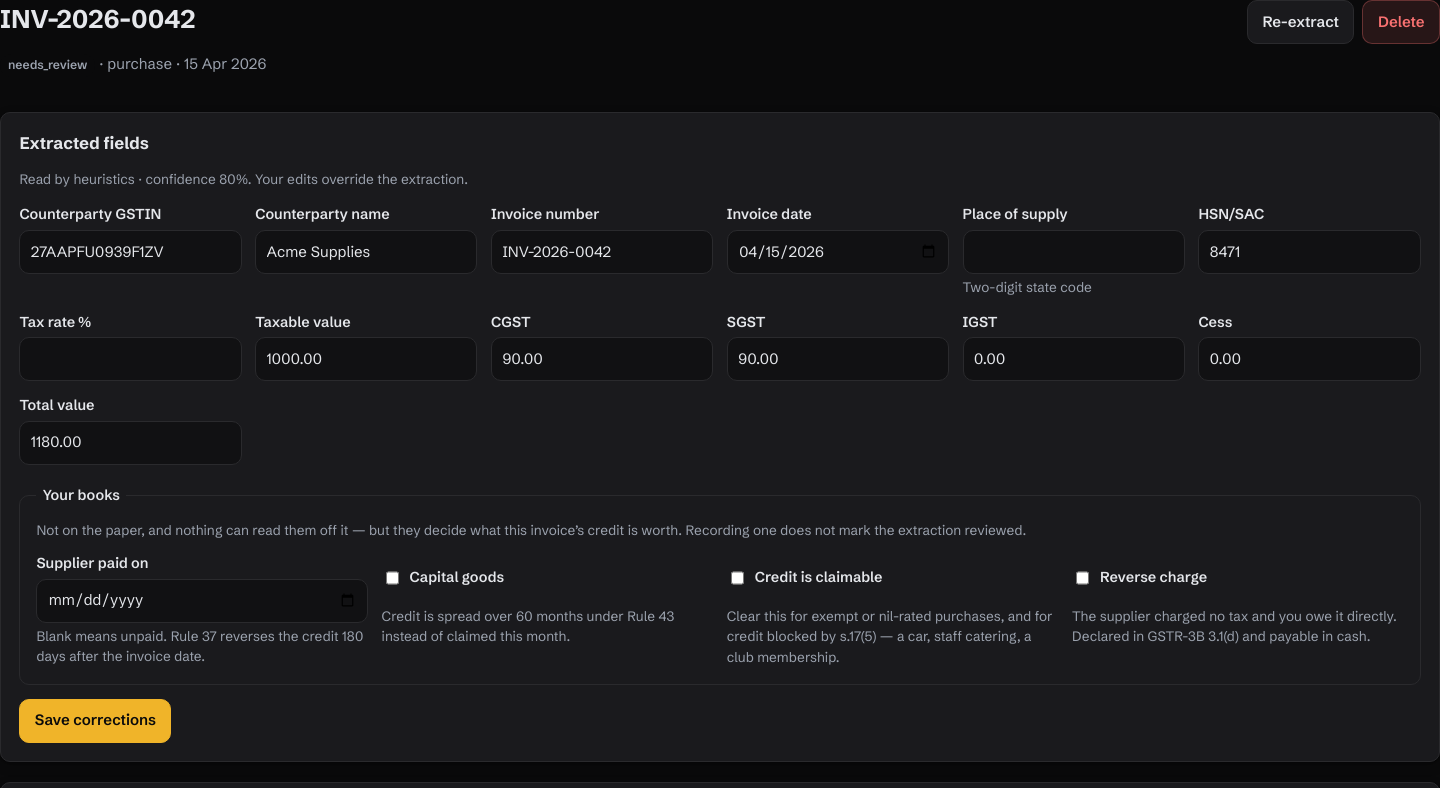
InvoiceDetailPage › blocks the save on a negative amount and says which field
Expected: the field labelled "Counterparty GSTIN" is shown, [19,230,242,274]
Clear the number field labelled "CGST" at (602, 359), box [491,337,713,381]
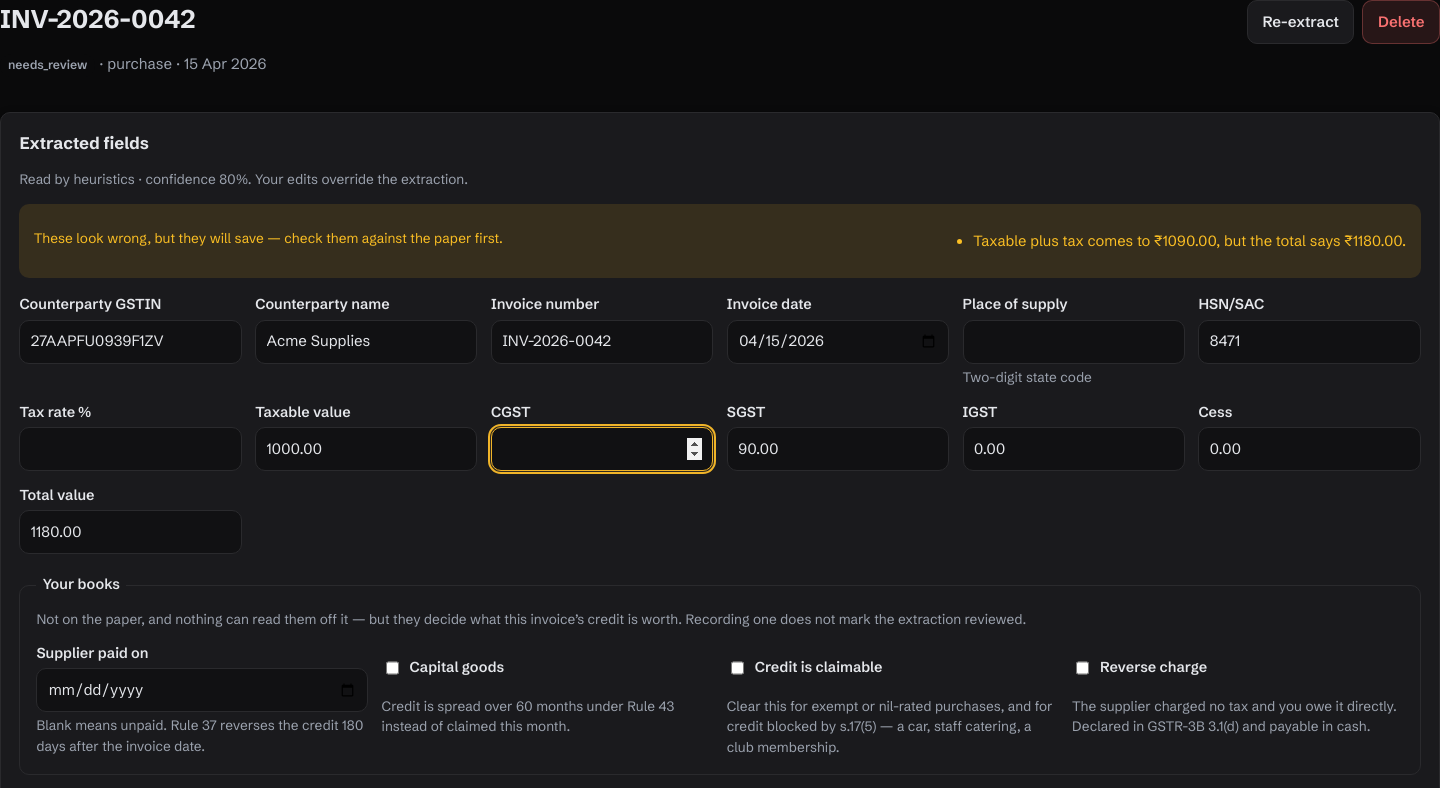
Type "-5" into the number field labelled "CGST".
click(602, 449); type("-5")  # box [491,427,713,471]
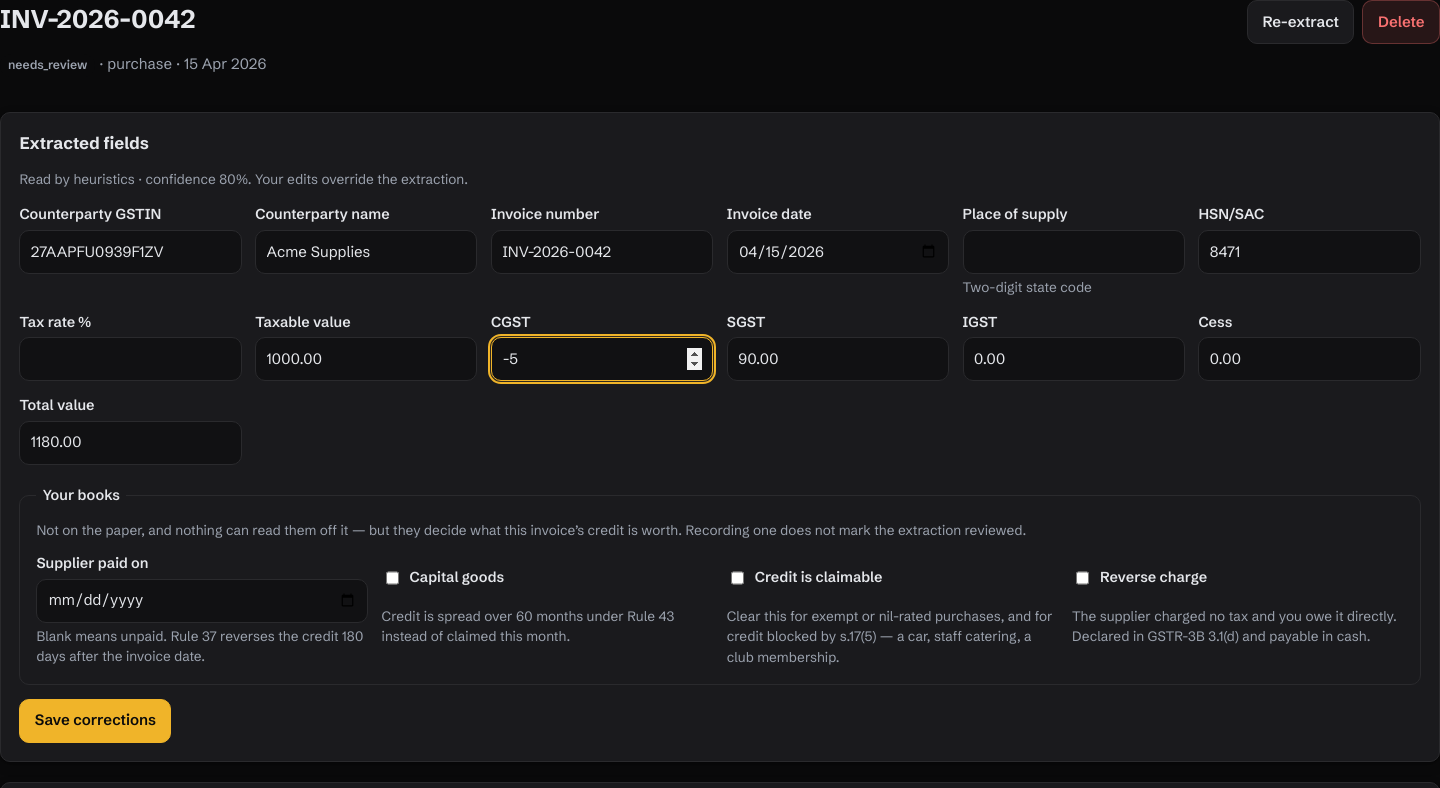
Click the button "Save corrections".
click(95, 721)  # box [19,699,172,743]
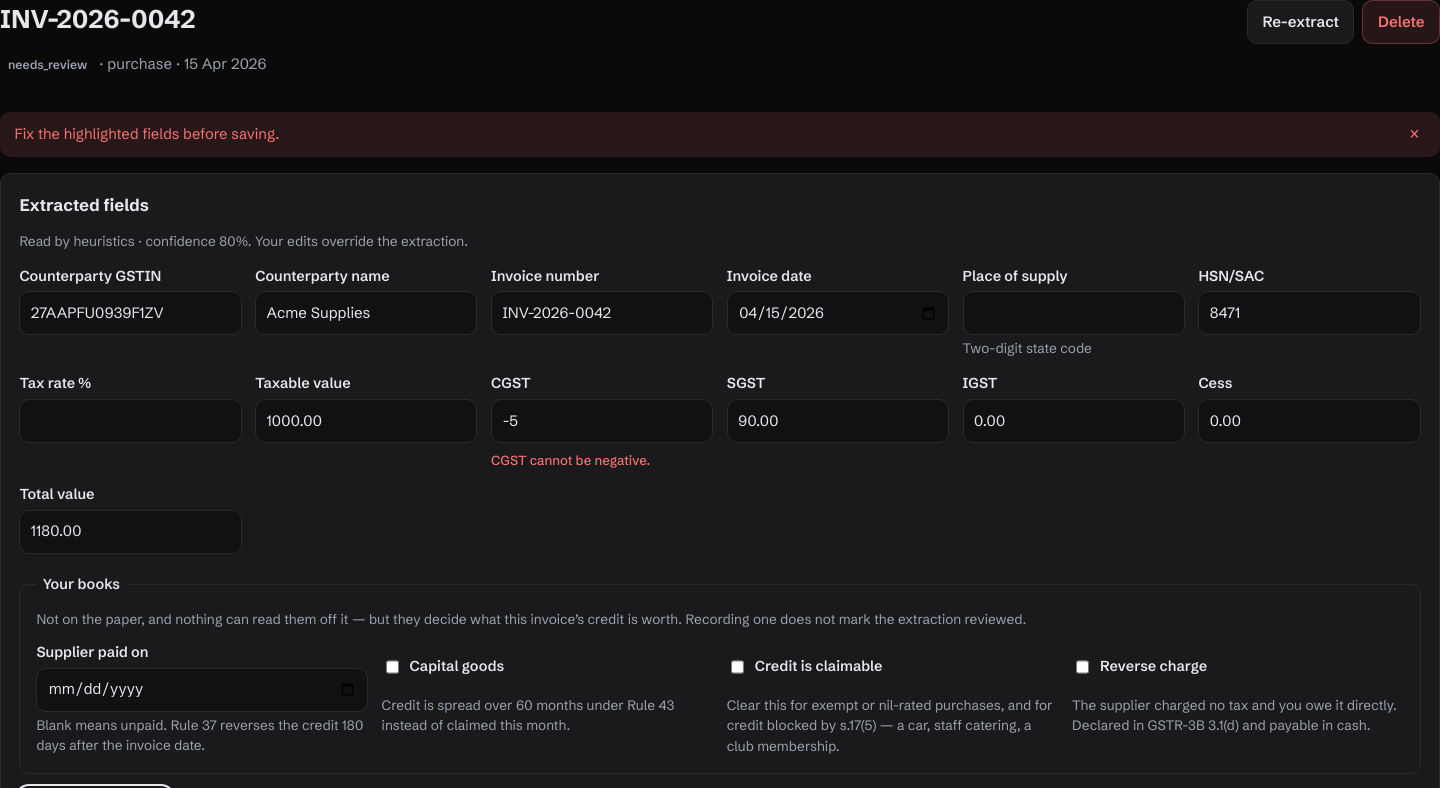
Expected: the text "CGST cannot be negative." is shown, [491,452,650,468]
